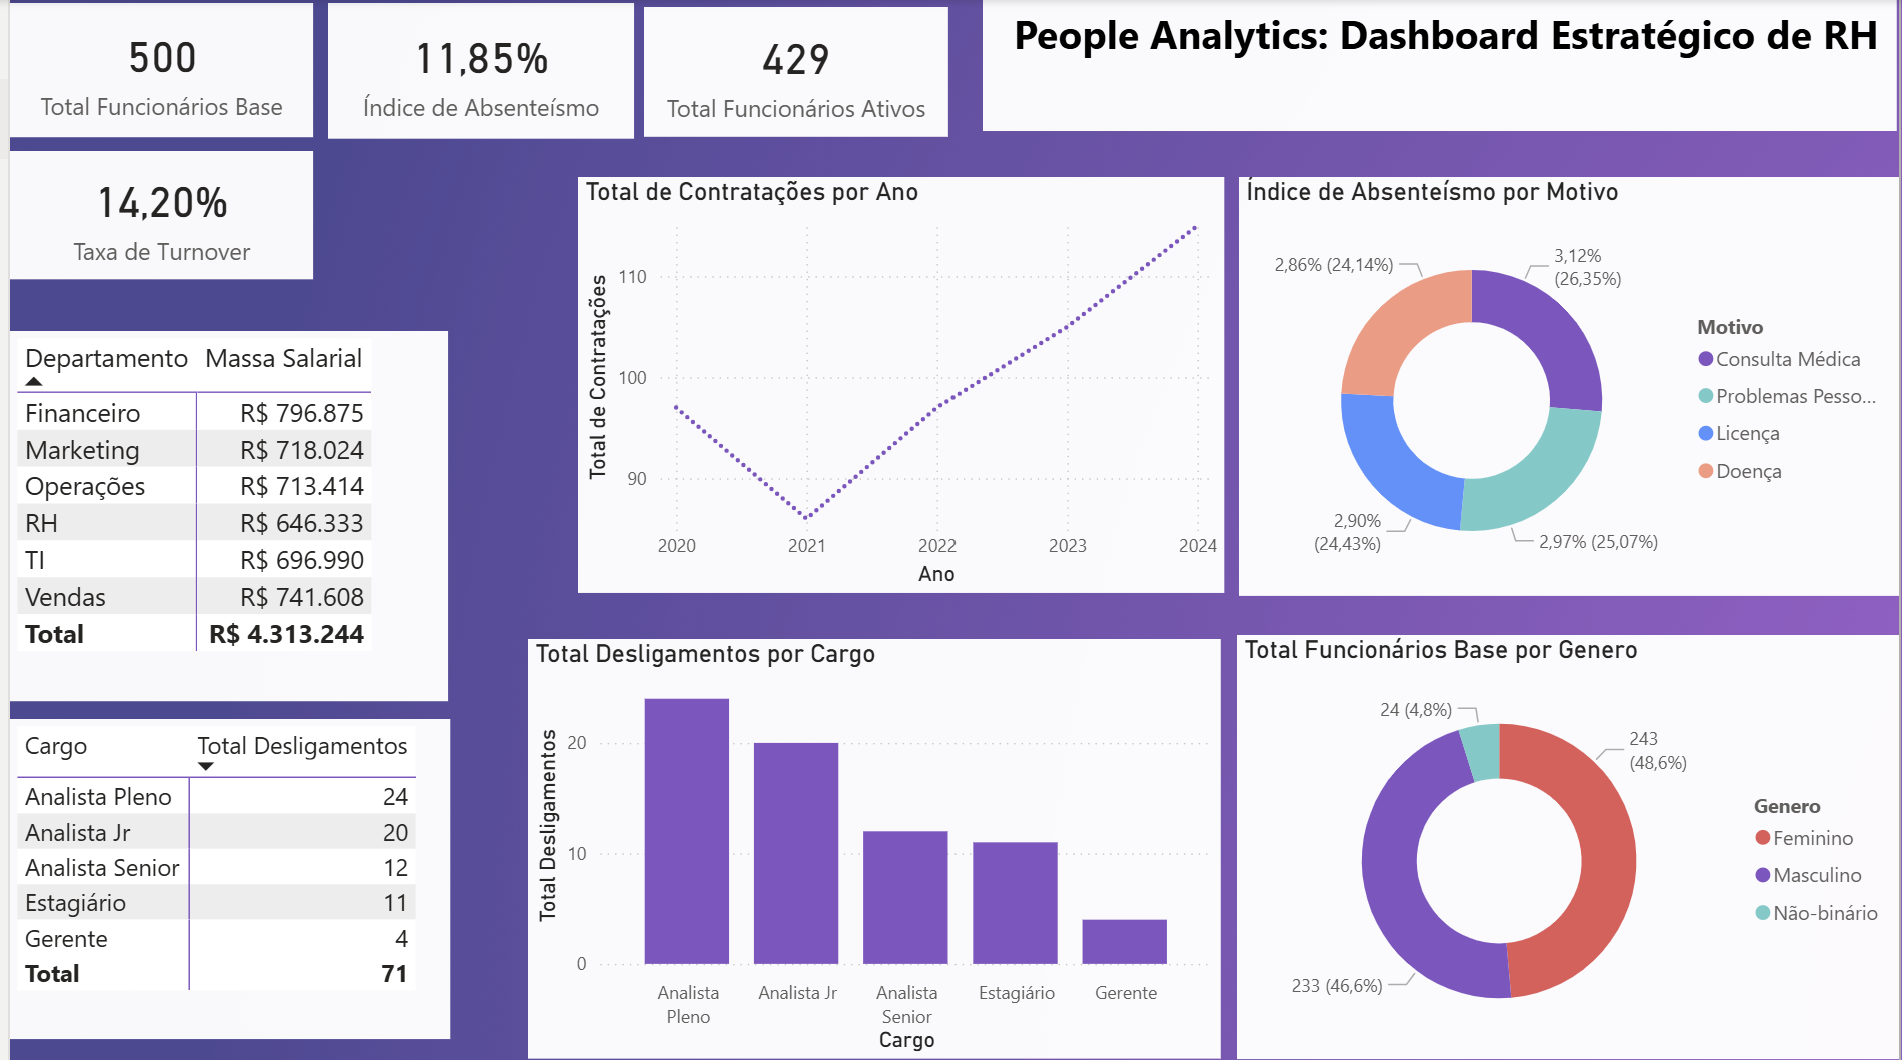

What the dashboard file says about the page in this screenshot:
{"tool":"powerbi","page":{"name":"Página 1","canvas":[1280,720],"ordinal":0},"visuals":[{"type":"card","fields":{"Values":["funcionarios.Total Funcionários Ativos"]},"box":[429.2,4.7,206.1,88.1],"z":0},{"type":"card","fields":{"Values":["funcionarios.Total Funcionários Base"]},"box":[0,2.7,205.4,90.8],"z":1000},{"type":"card","fields":{"Values":["funcionarios.Taxa de Turnover"]},"box":[0,103.1,205.4,86.8],"z":2000},{"type":"pivotTable","fields":{"Values":["funcionarios.Total Desligamentos"],"Rows":["funcionarios.Cargo"]},"box":[0,488.1,298.3,216.9],"z":4000},{"type":"card","fields":{"Values":["funcionarios.Índice de Absenteísmo"]},"box":[214.9,2,207.5,92.2],"z":6000},{"type":"columnChart","fields":{"Y":["funcionarios.Total Desligamentos"],"Category":["funcionarios.Cargo"]},"box":[351.2,433.9,469.2,284.7],"z":7000},{"type":"donutChart","fields":{"Category":["funcionarios.Genero"],"Y":["funcionarios.Total Funcionários Base"]},"box":[830.5,431.2,449.5,287.5],"z":8000},{"type":"lineChart","fields":{"Category":["funcionarios.Data_Contratacao.Variation.Hierarquia de datas.Ano"],"Y":["funcionarios.Total de Contratações"]},"box":[384.4,120.7,437.3,282],"z":9000},{"type":"pivotTable","fields":{"Values":["funcionarios.Massa Salarial"],"Rows":["funcionarios.Departamento"]},"box":[0,225.1,296.9,250.8],"z":10000},{"type":"donutChart","fields":{"Category":["fato_absenteismo.Motivo"],"Y":["funcionarios.Índice de Absenteísmo"]},"box":[832.5,120,447.5,284.1],"z":11000},{"type":"textbox","box":[659,0,619.7,89.5],"z":12000}]}

Visuals, with their boxes in screenshot pixels (x1, y1, x2, y2), scaled from the page's 1280x720 canvas onto the 1902x1060 screenshot:
card - funcionarios.Total Funcionários Ativos: l=638, t=7, r=944, b=137
card - funcionarios.Total Funcionários Base: l=0, t=4, r=305, b=138
card - funcionarios.Taxa de Turnover: l=0, t=152, r=305, b=280
pivotTable - funcionarios.Total Desligamentos x funcionarios.Cargo: l=0, t=719, r=443, b=1038
card - funcionarios.Índice de Absenteísmo: l=319, t=3, r=628, b=139
columnChart - funcionarios.Total Desligamentos x funcionarios.Cargo: l=522, t=639, r=1219, b=1058
donutChart - funcionarios.Genero x funcionarios.Total Funcionários Base: l=1234, t=635, r=1901, b=1058
lineChart - funcionarios.Data_Contratacao.Variation.Hierarquia de datas.Ano x funcionarios.Total de Contratações: l=571, t=178, r=1221, b=593
pivotTable - funcionarios.Massa Salarial x funcionarios.Departamento: l=0, t=331, r=441, b=701
donutChart - fato_absenteismo.Motivo x funcionarios.Índice de Absenteísmo: l=1237, t=177, r=1901, b=595
textbox: l=979, t=0, r=1900, b=132
